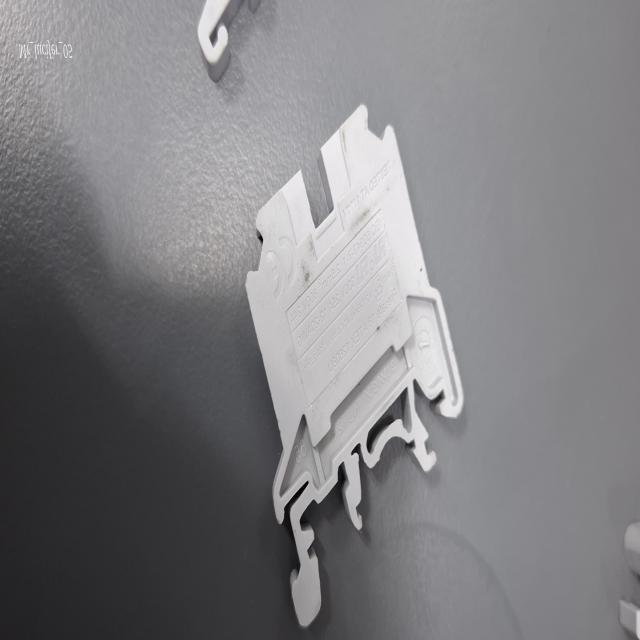Inverted: (234, 81, 470, 636)
